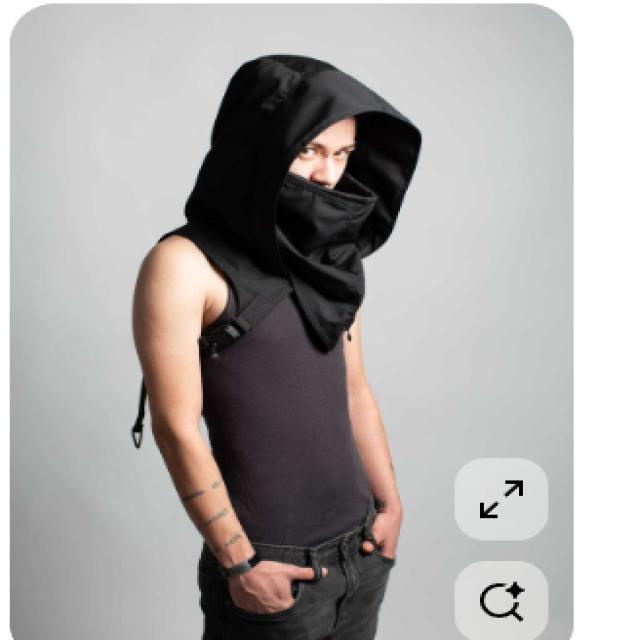4_capucha: (182, 52, 422, 263)
